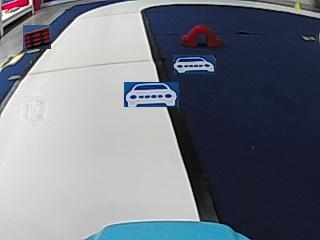bridge: (179, 24, 221, 48)
